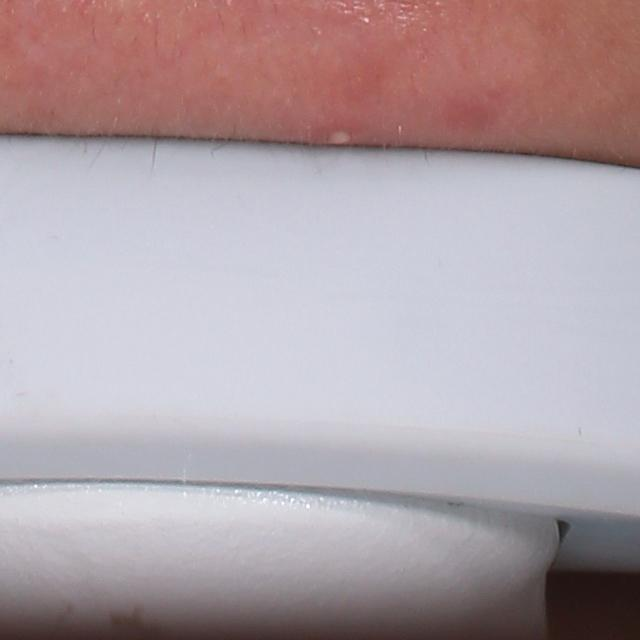pustule: (317, 119, 357, 148)
